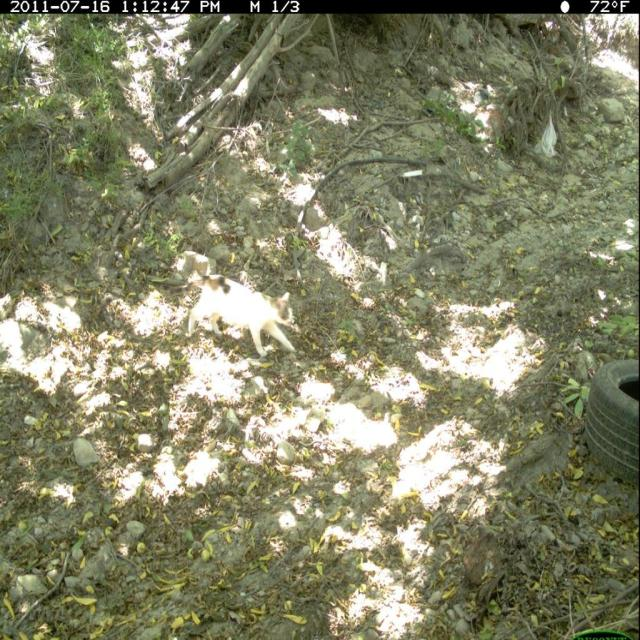cat: (172, 258, 303, 367)
